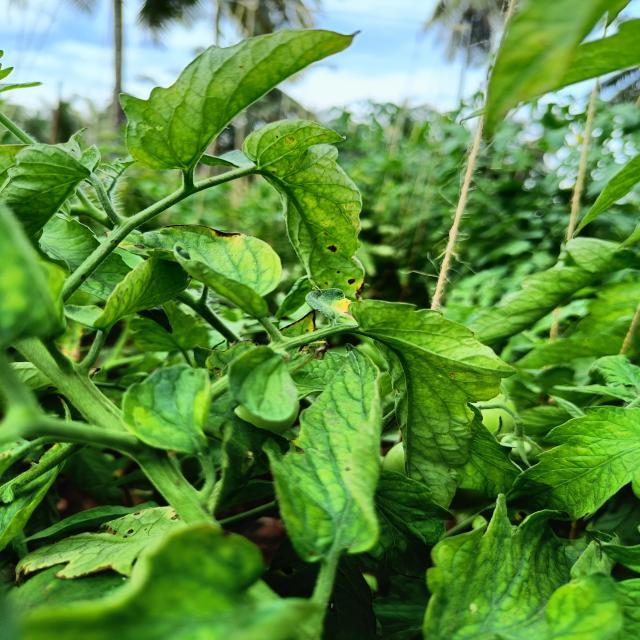Tomato mosaic virus leaf: (279, 116, 370, 302), (11, 506, 192, 584), (118, 220, 282, 300)
